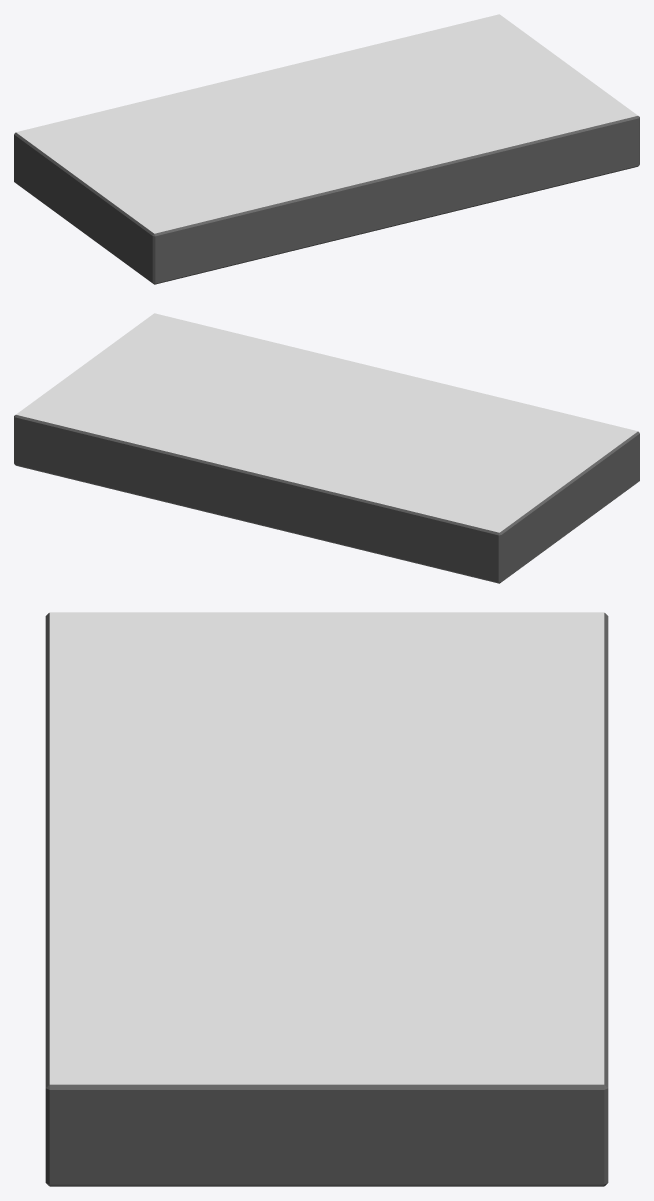
Rendered from FootholdBox.fbx.
3 renders of one model, top to bottom at view 1: azimuth 30°, elevation 25°; view 2: azimuth 150°, elevation 25°; view 3: azimuth 270°, elevation 25°, orthographic. The views are drawn at different scales.
Parts seen in each view (by area): view 1: FootholdBox; view 2: FootholdBox; view 3: FootholdBox.
Boxes of the visible parts, x1=… form: FootholdBox: x1=14, y1=14, x2=639, y2=284; FootholdBox: x1=14, y1=313, x2=639, y2=583; FootholdBox: x1=45, y1=612, x2=608, y2=1186.
Size of the model in its own units: 2000 by 200 by 1000.
1 material, 1 textured.
